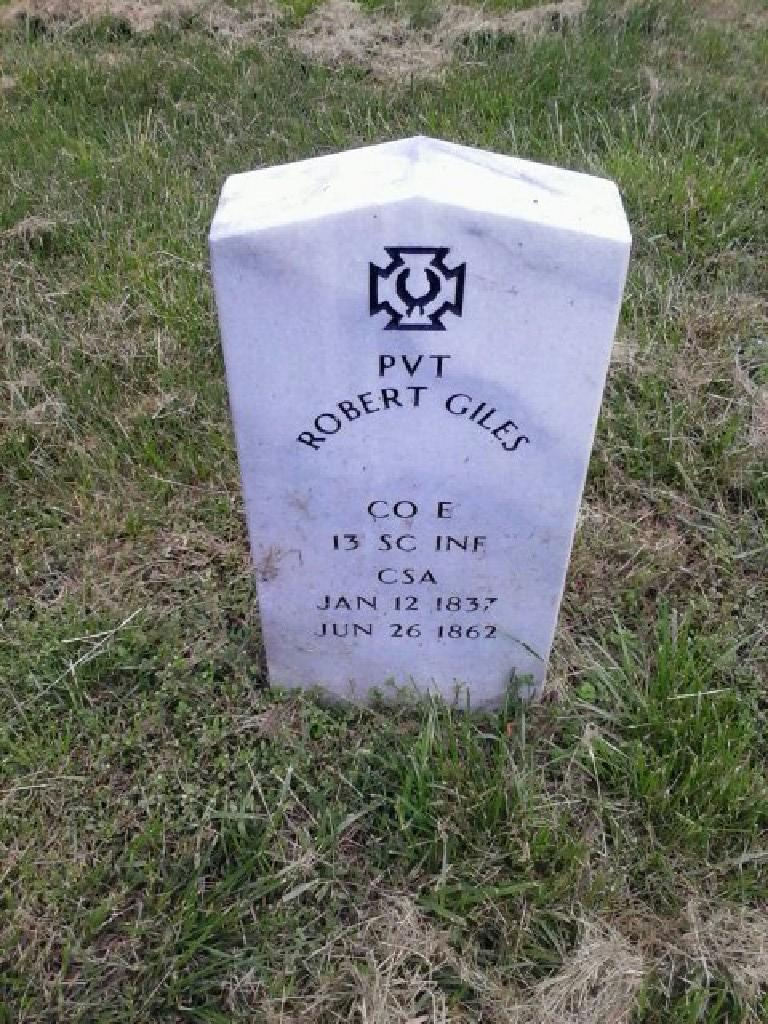military: (207, 132, 634, 712)
